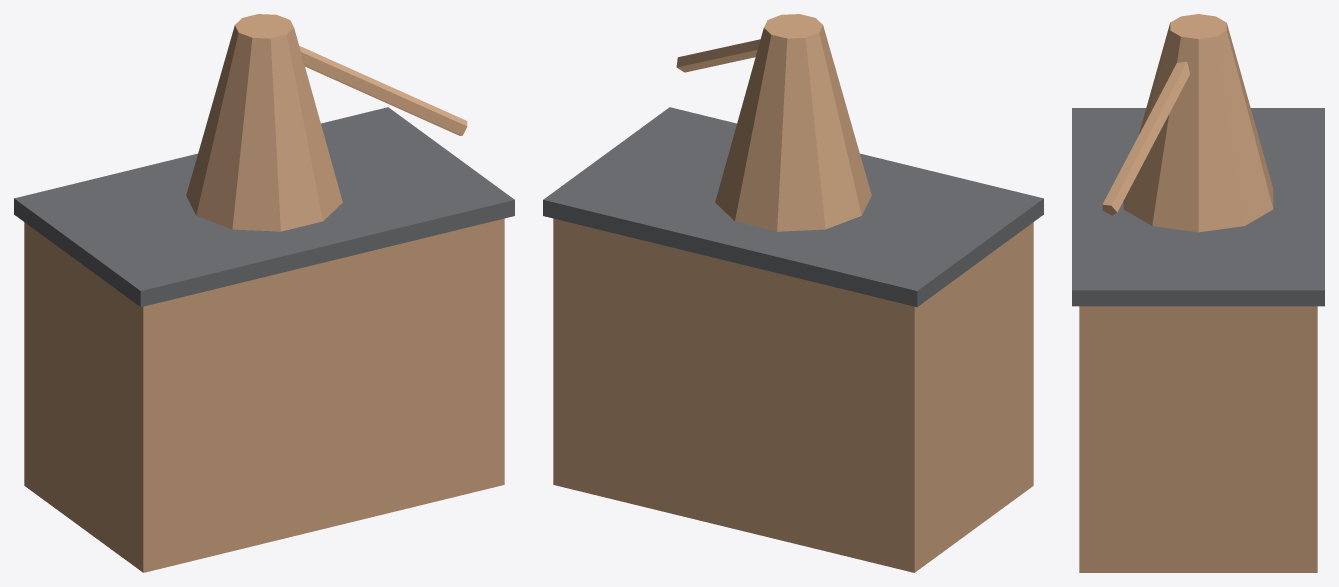
File: deploy_still.glb
3 views of the same model, side by side, from view 1: azimuth 30°, elevation 25°; view 2: azimuth 150°, elevation 25°; view 3: azimuth 270°, elevation 25° (orthographic).
Parts seen in each view (by area): view 1: deploy_still; view 2: deploy_still; view 3: deploy_still.
Part boxes in pixels (x1=…): deploy_still: x1=14, y1=14, x2=514, y2=572; deploy_still: x1=543, y1=14, x2=1043, y2=572; deploy_still: x1=1072, y1=14, x2=1324, y2=572.
Bounding box in the file's own units: 1.45 × 1.7 × 0.85.
